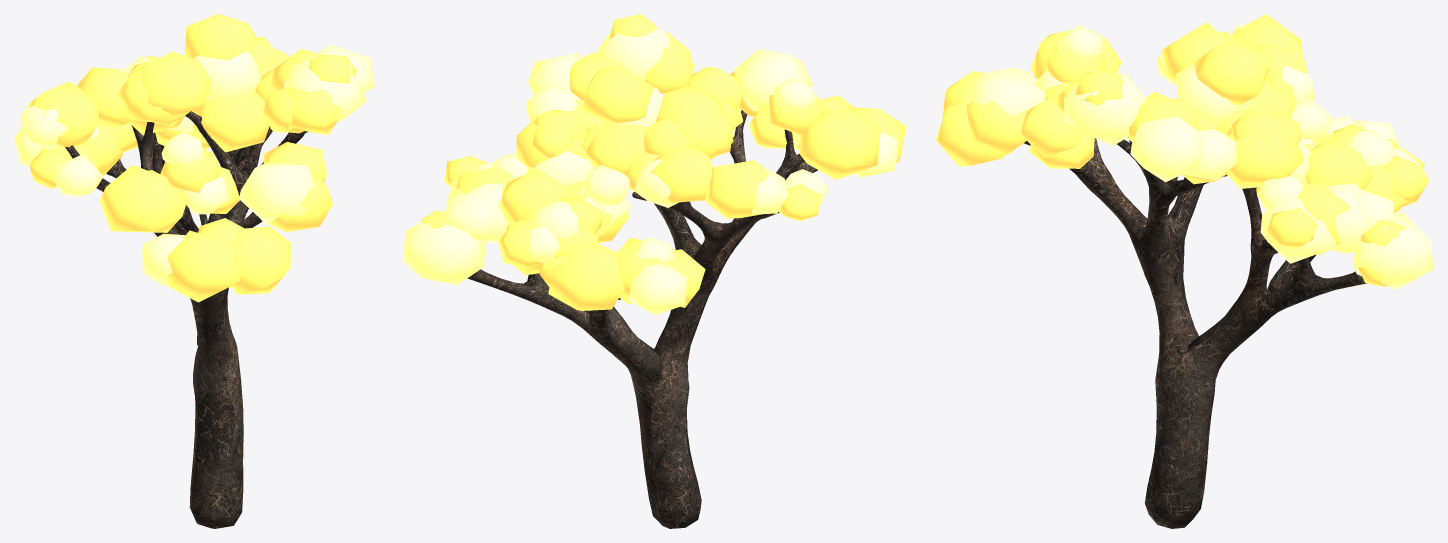
The model's file is ember_tree_a.glb.
3 renders of one model, left to right at view 1: azimuth 30°, elevation 25°; view 2: azimuth 150°, elevation 25°; view 3: azimuth 270°, elevation 25°, orthographic. The views are drawn at different scales.
Parts seen in each view (by area): view 1: ember_tree_a_e, ember_tree_a_w; view 2: ember_tree_a_e, ember_tree_a_w; view 3: ember_tree_a_e, ember_tree_a_w.
Part boxes in pixels (x1=…): ember_tree_a_e: x1=14, y1=14, x2=374, y2=302; ember_tree_a_w: x1=65, y1=111, x2=307, y2=528; ember_tree_a_e: x1=403, y1=14, x2=906, y2=315; ember_tree_a_w: x1=467, y1=110, x2=817, y2=528; ember_tree_a_e: x1=935, y1=14, x2=1433, y2=289; ember_tree_a_w: x1=1024, y1=137, x2=1367, y2=528.
Size of the model in its own units: 6.19 by 8.38 by 7.58.
Materials: 3 (1 with a texture image).
